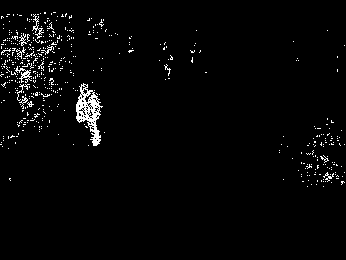person: (71, 77, 105, 150)
